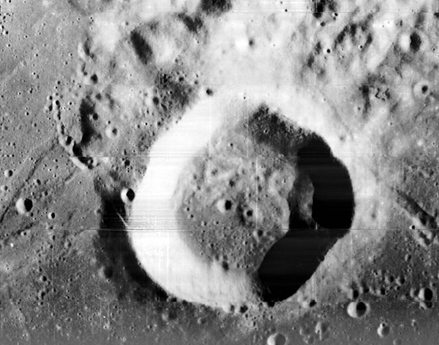crater: (92, 78, 388, 328)
